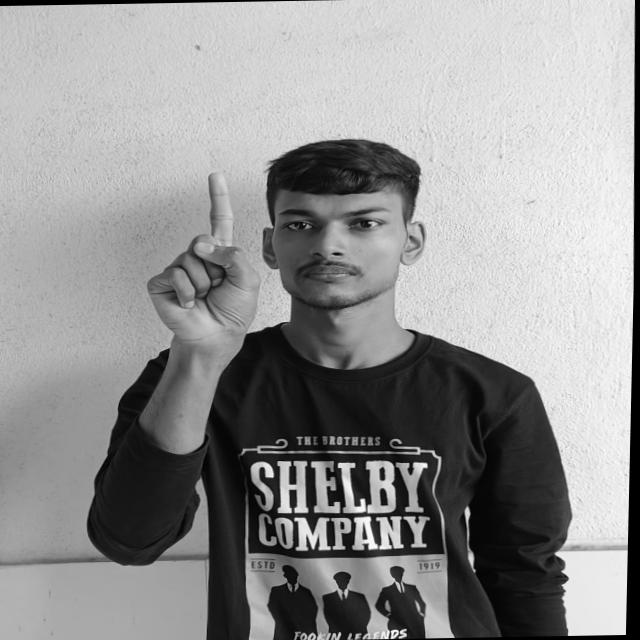Question: (145, 168, 266, 349)
